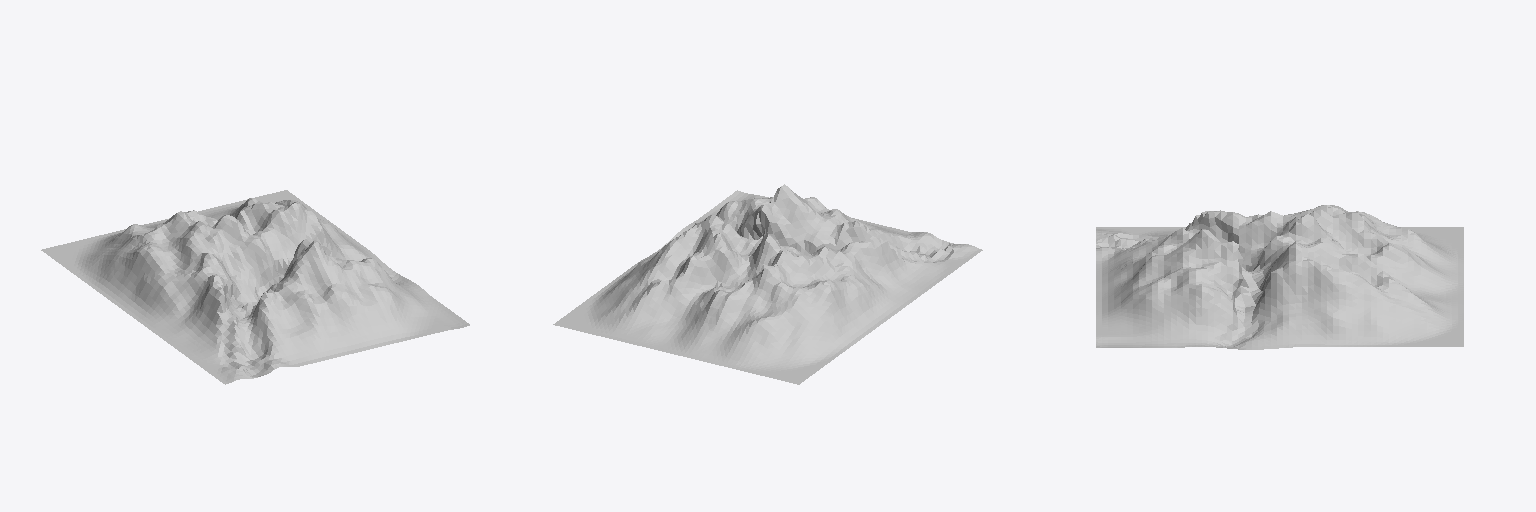
The model's file is mount.obj.
3 renders of one model, left to right at view 1: azimuth 30°, elevation 25°; view 2: azimuth 150°, elevation 25°; view 3: azimuth 270°, elevation 25°, orthographic.
Parts seen in each view (by area): view 1: Landscape; view 2: Landscape; view 3: Landscape.
Boxes of the visible parts, <box> form: Landscape: <box>41,190,469,384</box>; Landscape: <box>553,184,982,384</box>; Landscape: <box>1096,205,1463,349</box>.
Bounding box in the file's own units: 822 × 239 × 1066.